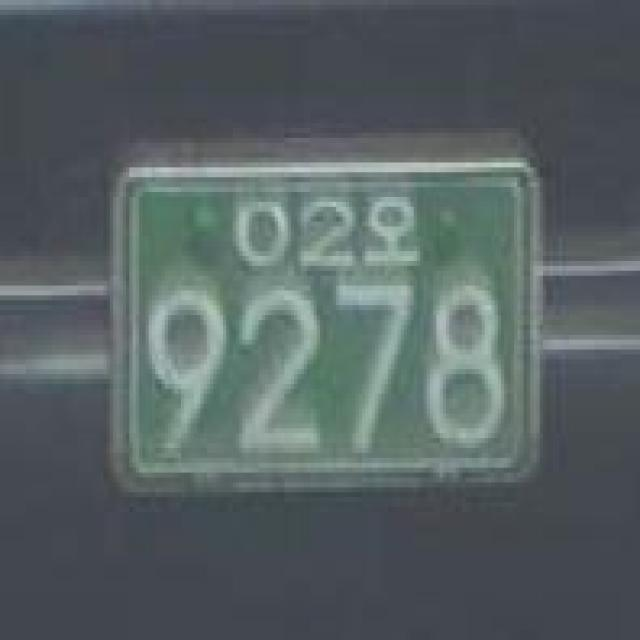illegal_plate: (95, 139, 561, 521)
